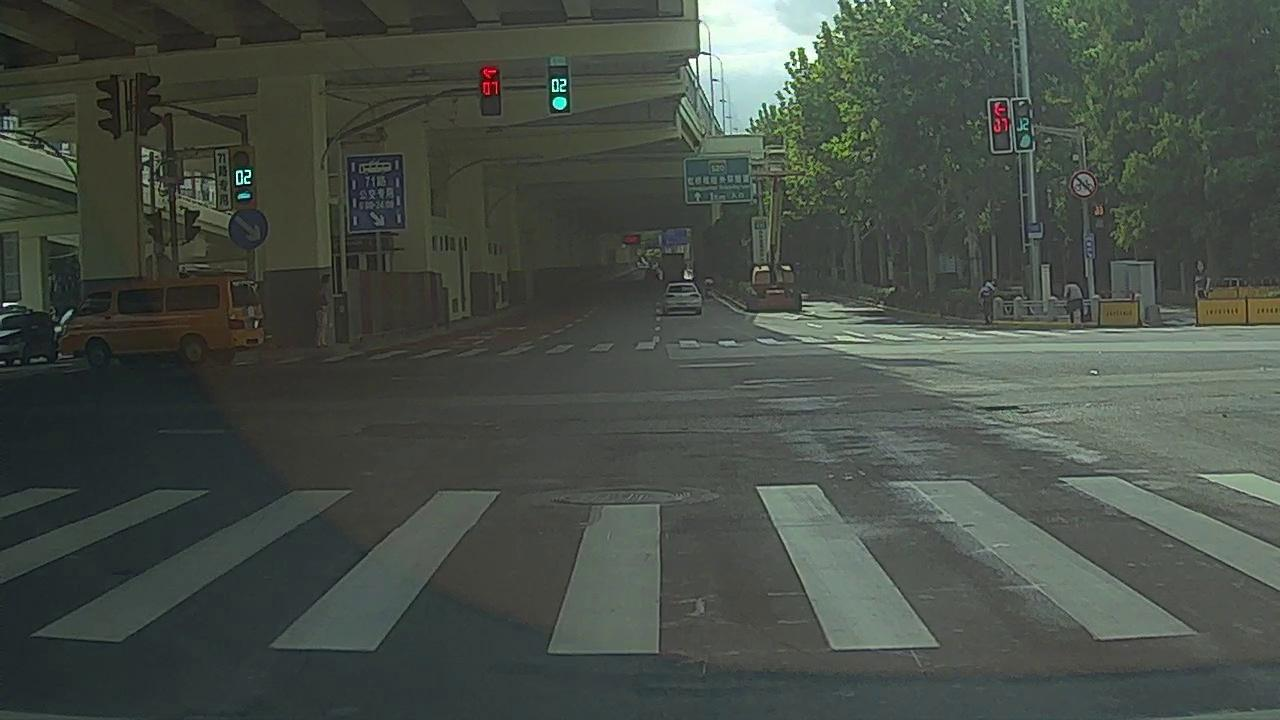traffic_light: (480, 64, 501, 117), (549, 66, 569, 113)
